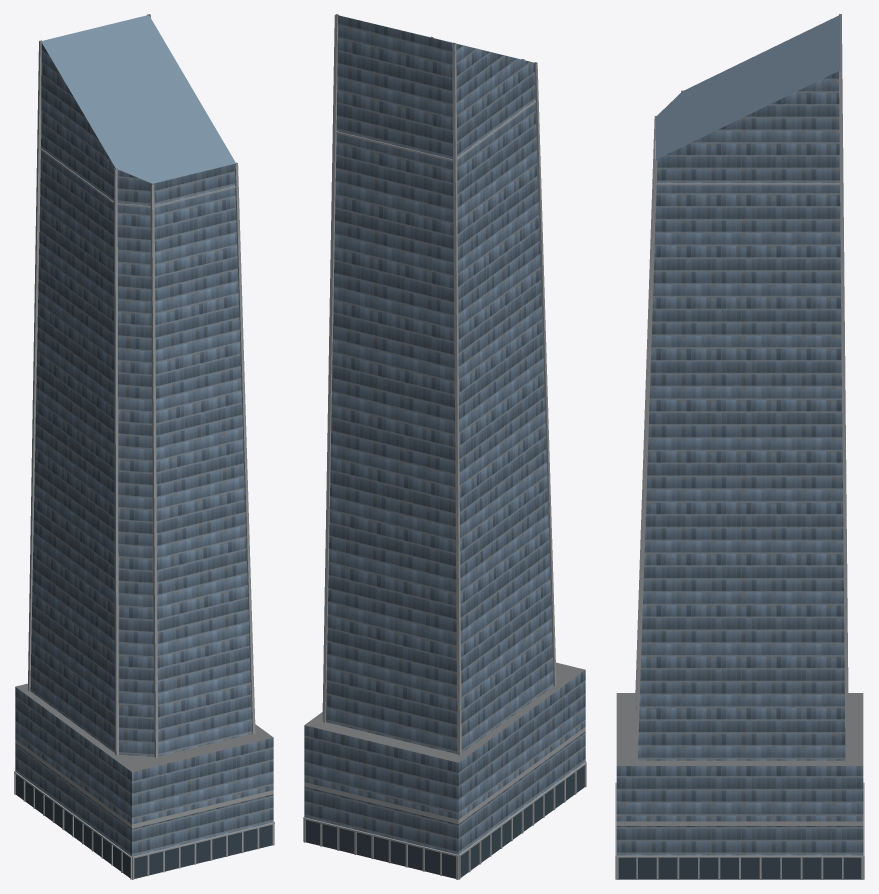
Rendered from hudson_yards_10.glb.
The picture shows the model from 3 angles, left to right: view 1: azimuth 30°, elevation 25°; view 2: azimuth 150°, elevation 25°; view 3: azimuth 270°, elevation 25°; orthographic projection. The views are drawn at different scales.
Visible parts, largest first — view 1: hudson_yards_10; view 2: hudson_yards_10; view 3: hudson_yards_10.
Part boxes in pixels (bbox=[...]): hudson_yards_10: bbox=[14, 14, 274, 879]; hudson_yards_10: bbox=[303, 14, 586, 879]; hudson_yards_10: bbox=[615, 14, 864, 879].
Bounding box in the file's own units: 53.3 × 268 × 75.81.
2 materials, 2 textured.
